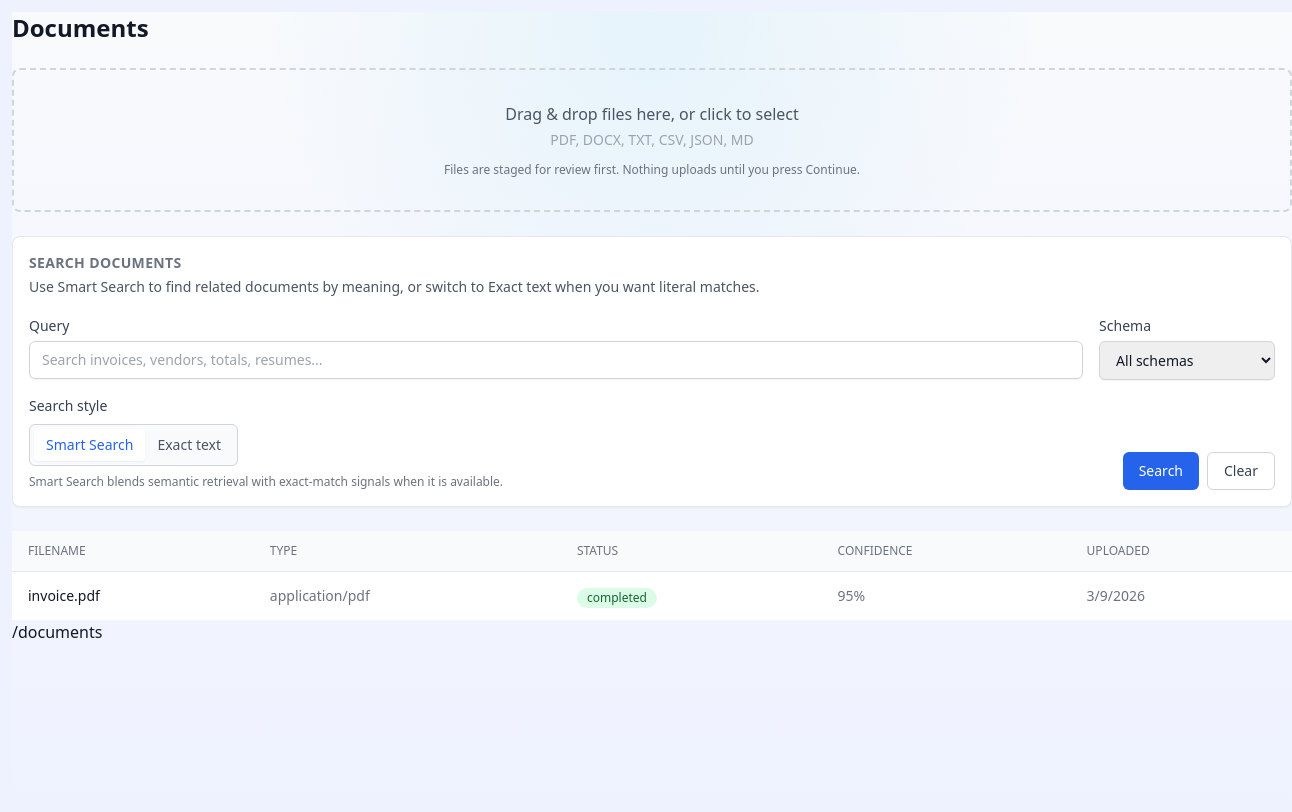
Test: Documents › supports exact text search with a schema filter and opens document detail
Expected: the text "invoice.pdf" is shown, [12,572,254,620]
Type "acme" into the field labelled "Query".
click(556, 360); type("acme")  # box [29,341,1083,379]
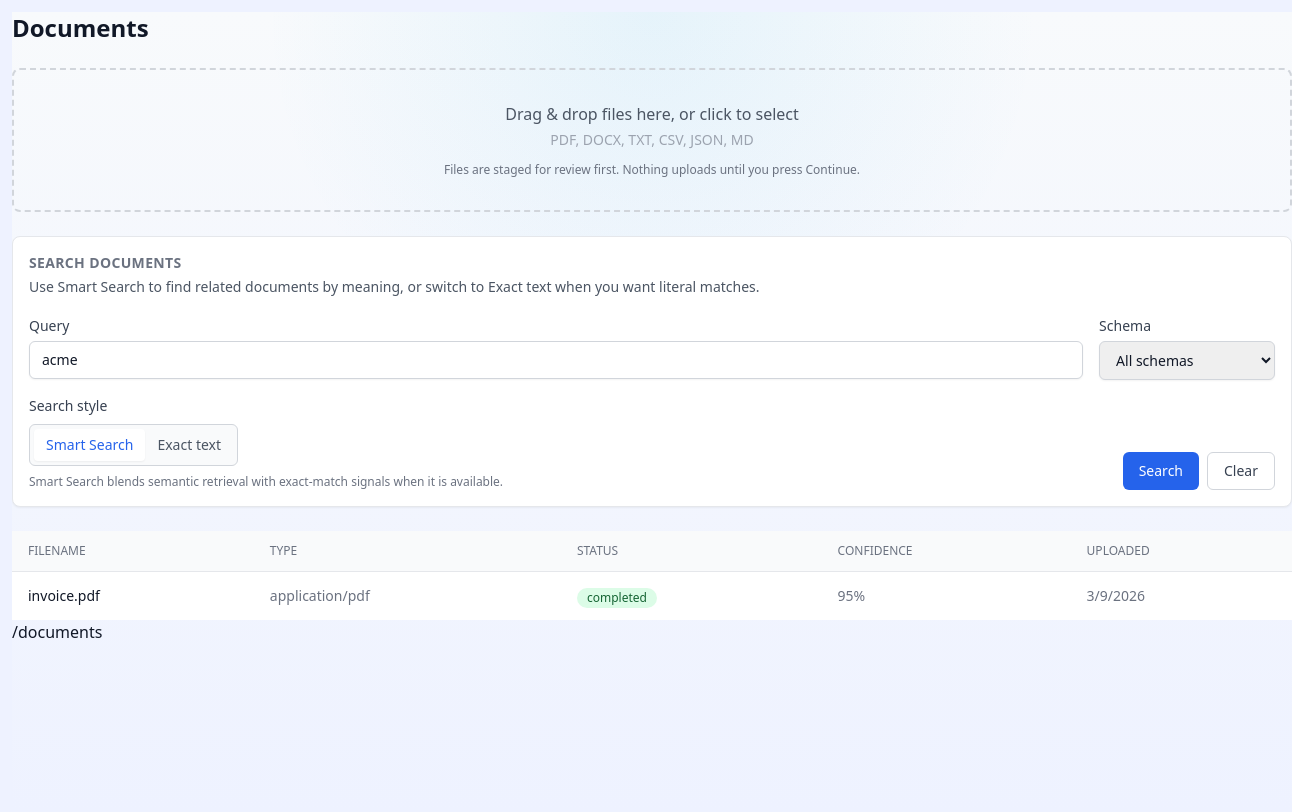
Click the button "Exact text".
click(189, 445)  # box [145,429,233,461]
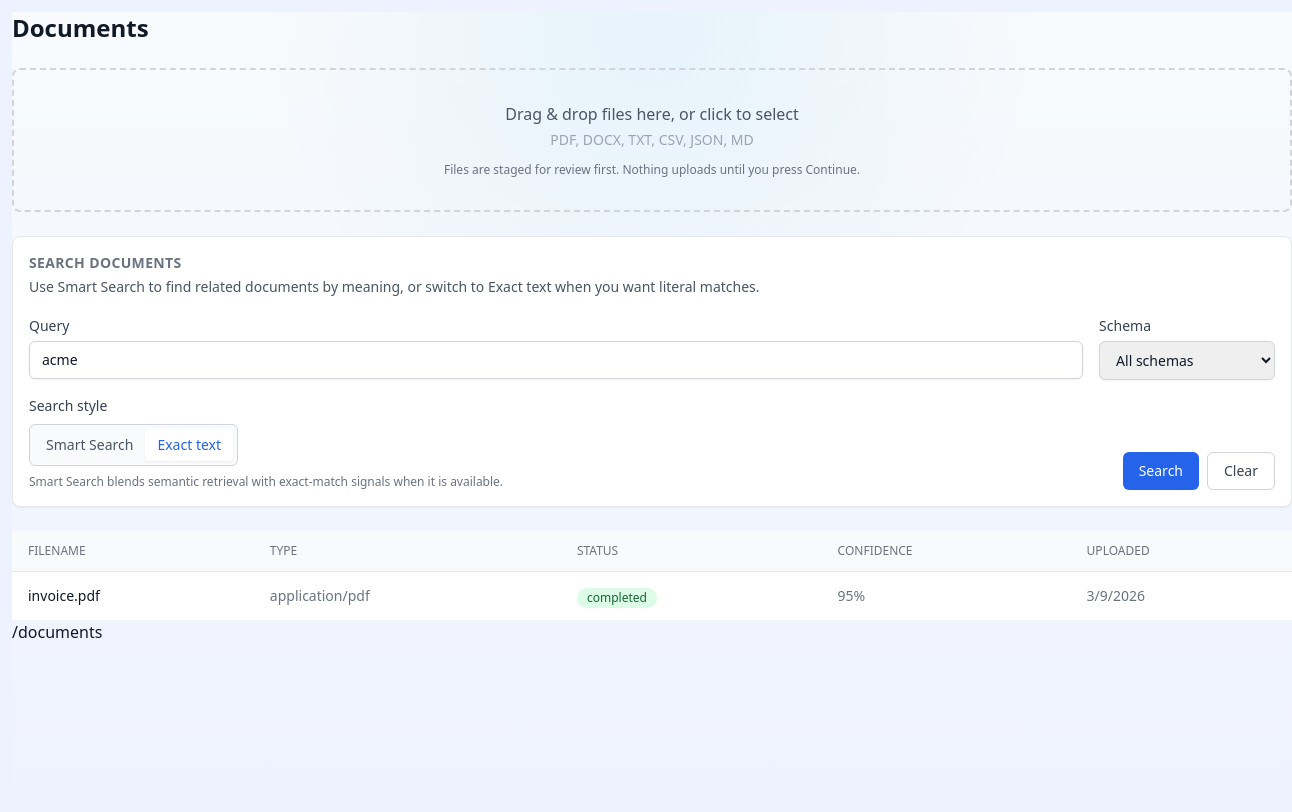
Select "Invoice" in the dropdown labelled "Schema" at (1187, 360), box [1099,341,1275,380]
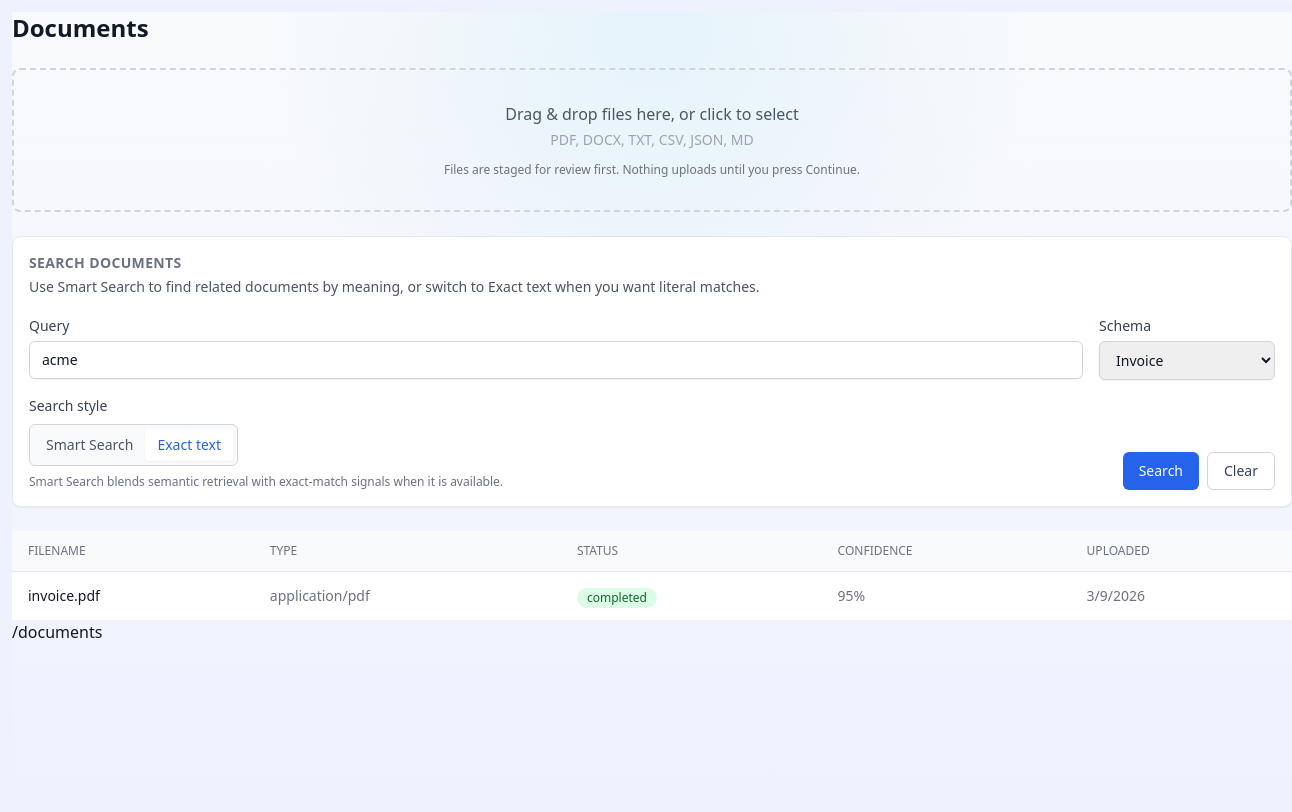
Click the button "Search".
click(1161, 471)  # box [1123,452,1199,490]
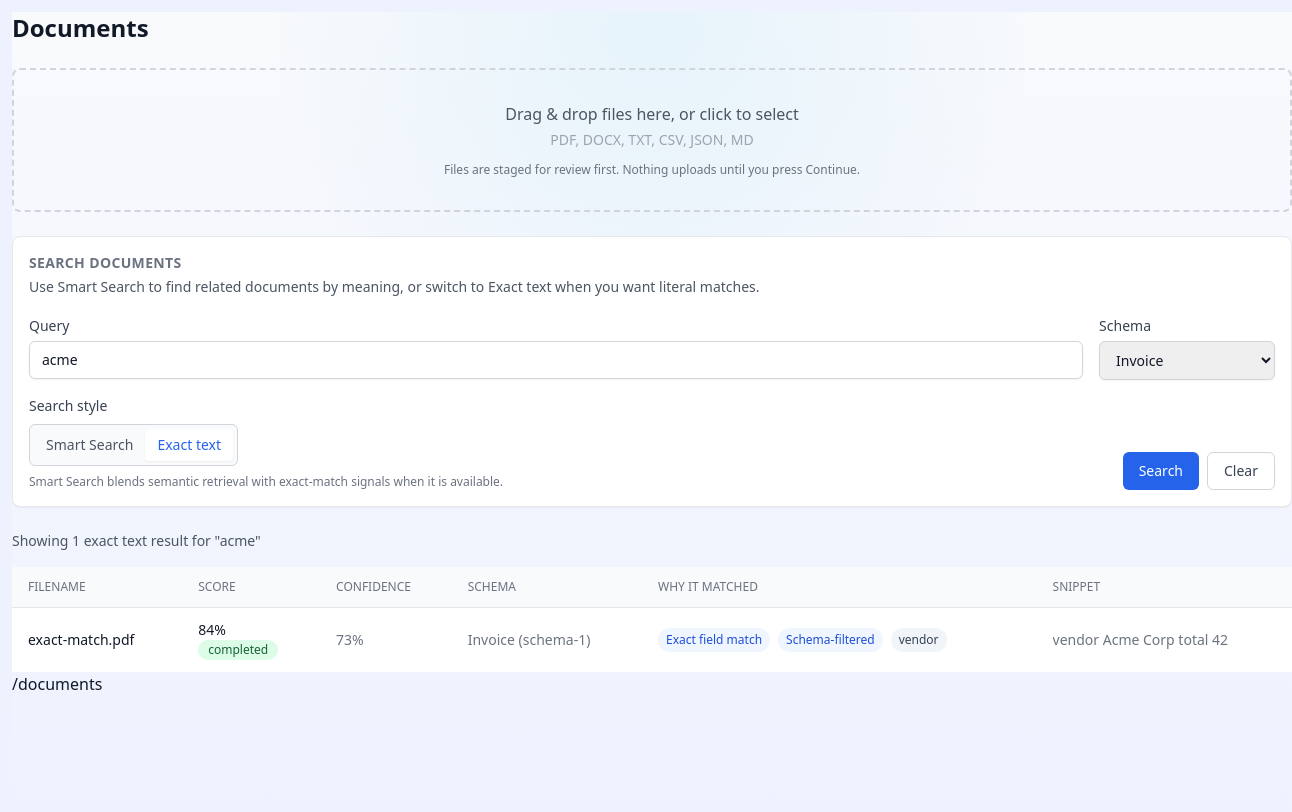
Expected: the text "Showing 1 exact text result for \"acme\"" is shown, [12,531,261,551]
Expected: the text "84%" is shown, [198,620,226,639]
Click the text "exact-match.pdf".
click(97, 640)  # box [12,608,182,672]
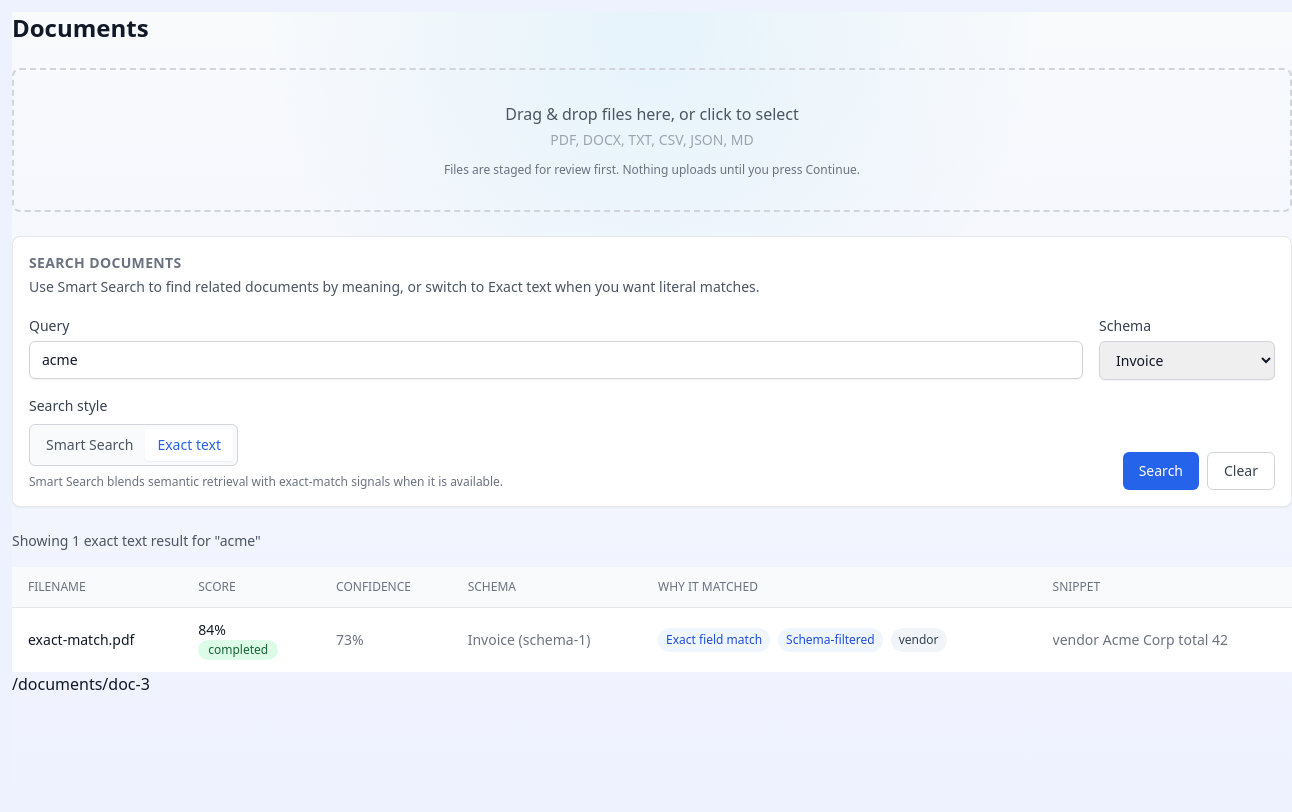
Expected: the text with test id "location-display" reads "/documents/doc-3", [12,673,150,695]
